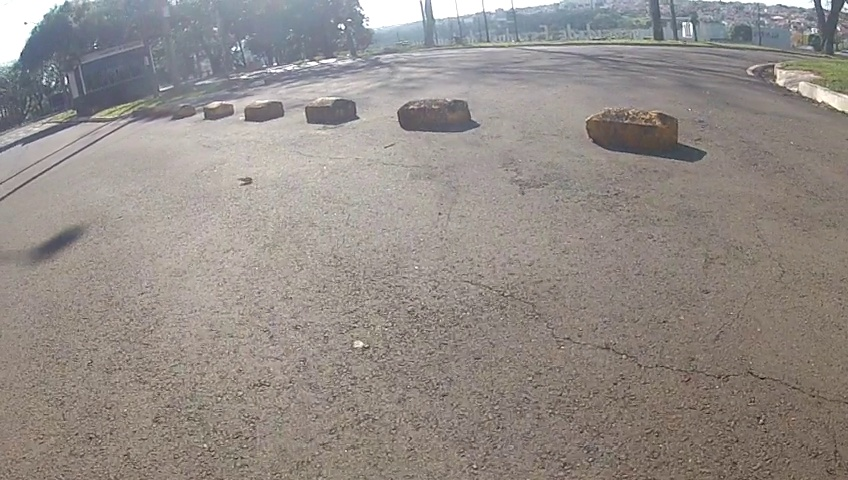TLT: (478, 258, 844, 433)
